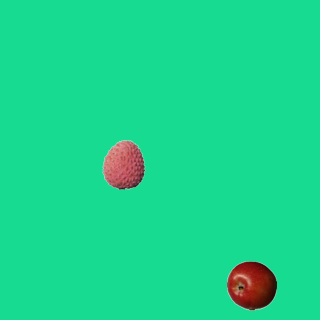Apple Braeburn: (226, 260, 276, 310)
Lychee: (98, 139, 148, 189)
